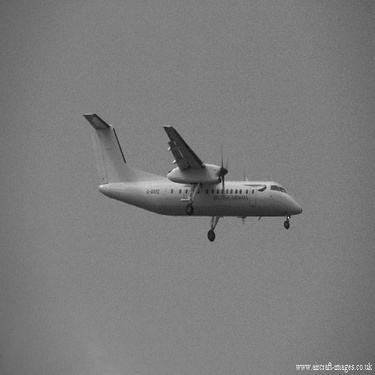airplane: (68, 97, 313, 247)
